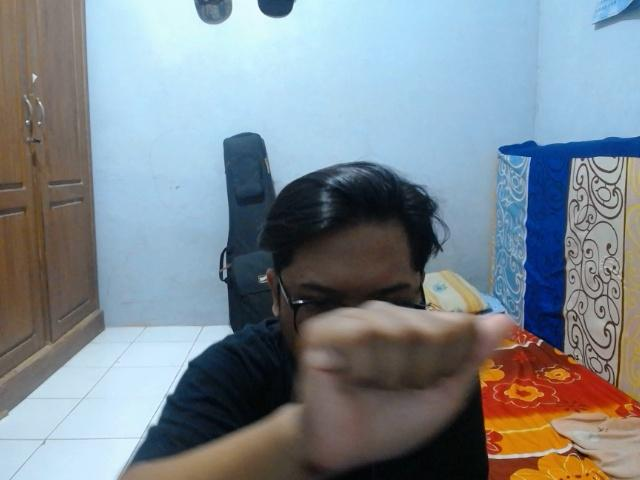Grab: (291, 294, 518, 476)
